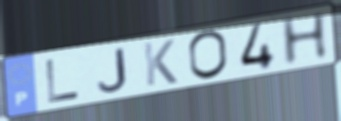4: (238, 20, 278, 72)
H: (278, 9, 331, 69)
J: (95, 46, 130, 94)
K: (141, 37, 180, 89)
L: (43, 58, 82, 105)
O: (186, 28, 231, 82)
